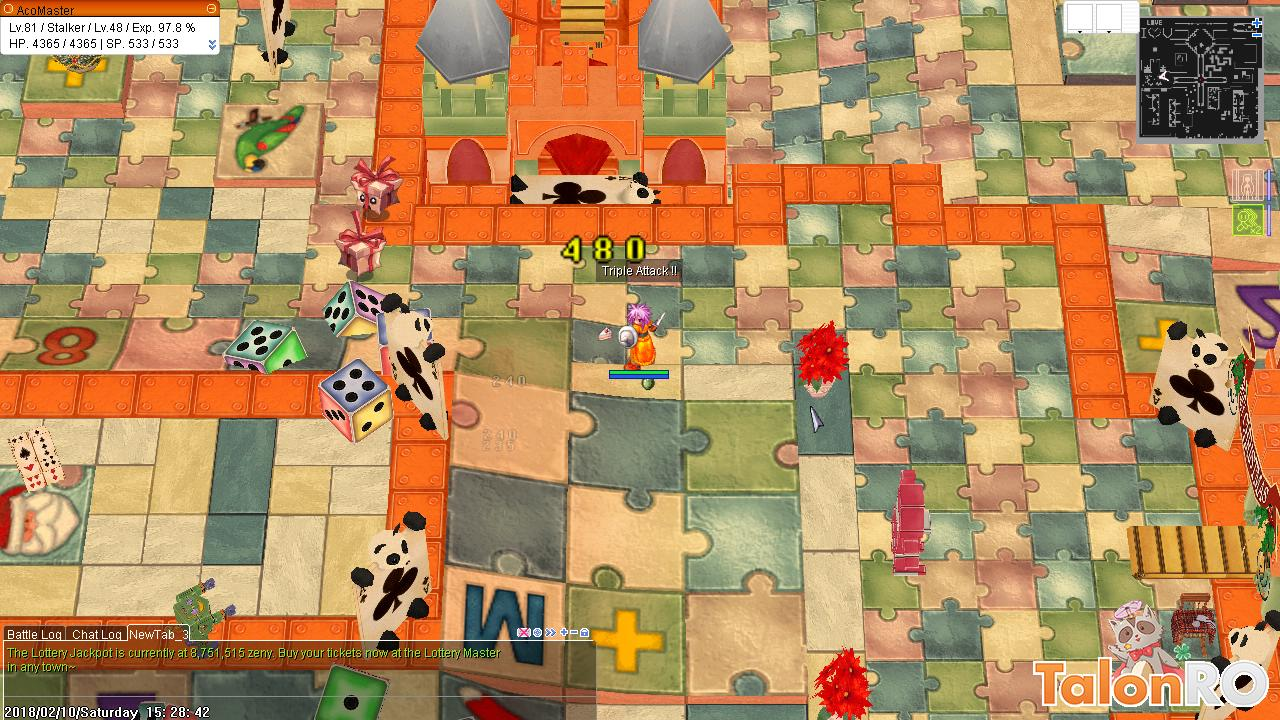loot: (592, 323, 616, 345), (636, 374, 659, 392)
myst_case: (334, 204, 396, 285), (347, 150, 407, 222)
